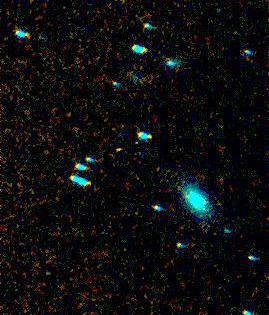star: (97, 133, 127, 163)
